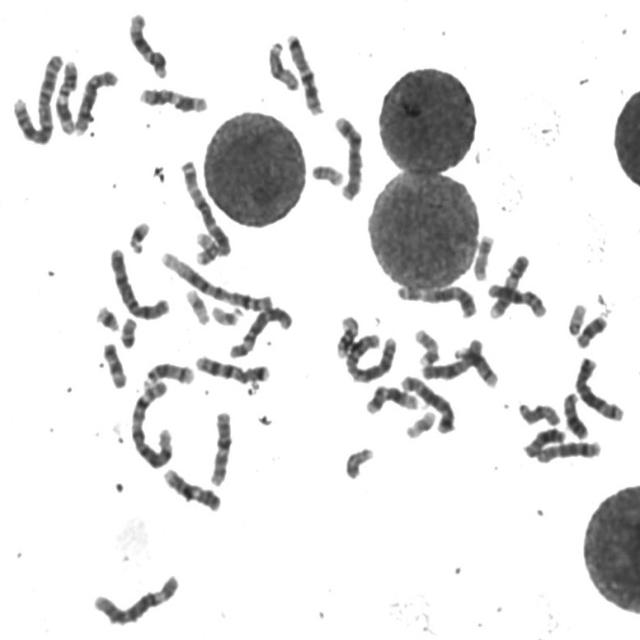A1: (157, 244, 277, 313), (127, 374, 177, 470)
A2: (8, 46, 66, 146), (342, 327, 400, 385)
A3: (177, 154, 234, 258), (393, 278, 480, 320)
B4: (106, 242, 172, 322), (330, 110, 367, 202)
B5: (398, 368, 458, 436), (572, 351, 628, 423)
C10: (485, 277, 550, 319), (205, 405, 235, 488)
C11: (135, 81, 211, 114), (52, 54, 81, 136)
C12: (124, 6, 170, 79), (362, 380, 422, 415)
C6: (89, 568, 183, 627), (225, 300, 296, 360)
C7: (283, 27, 326, 116), (191, 348, 273, 384)
C8: (70, 63, 122, 137), (532, 434, 604, 464)
C9: (486, 249, 533, 319), (160, 462, 224, 512)
D13: (519, 422, 570, 459), (560, 386, 591, 440)
D14: (452, 341, 501, 389), (142, 356, 197, 387)
D15: (264, 33, 303, 92), (515, 396, 564, 427)
E16: (332, 310, 362, 358), (188, 230, 222, 270)
E17: (470, 228, 497, 282), (411, 323, 444, 367)
E18: (99, 336, 130, 389), (573, 308, 611, 349)
F19: (181, 282, 213, 326), (402, 404, 438, 440)
F20: (342, 440, 377, 480), (116, 311, 140, 349)
G21: (124, 214, 152, 254), (92, 299, 123, 334)
G22: (564, 296, 591, 337), (208, 299, 245, 327)
X: (419, 332, 486, 382)
Y: (308, 160, 346, 189)
